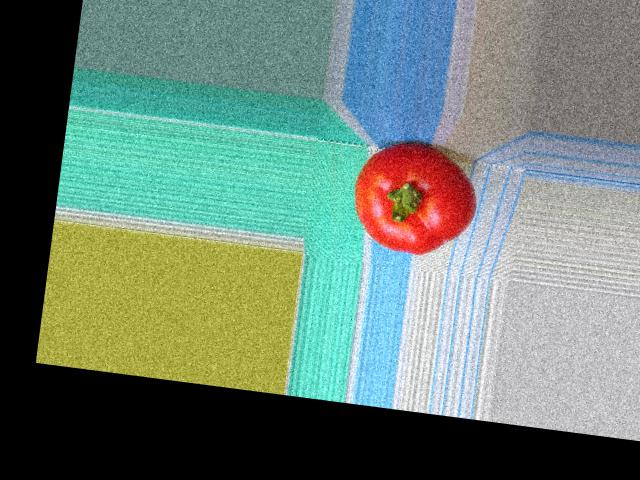tomato: (347, 135, 482, 261)
